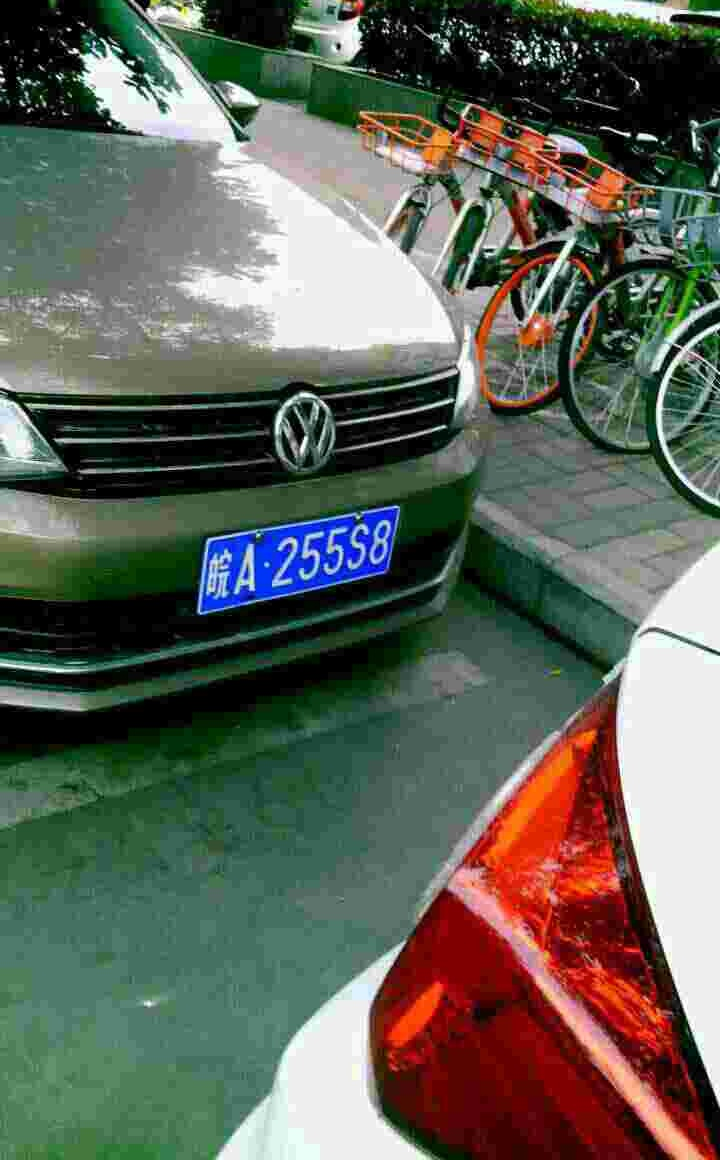license_plate: (195, 500, 401, 614)
